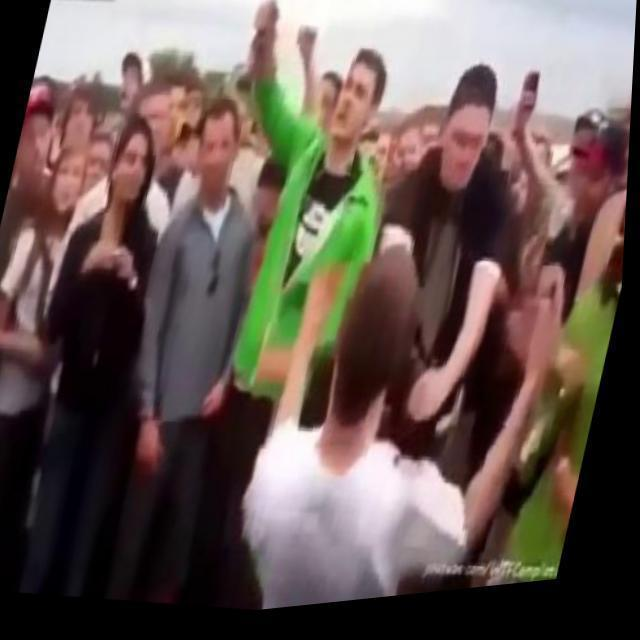fight: (300, 45, 561, 577)
